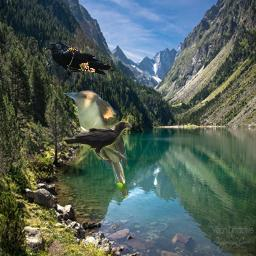Crow: (42, 40, 111, 86), (62, 121, 132, 160)
Cuckoo: (62, 89, 131, 203)
